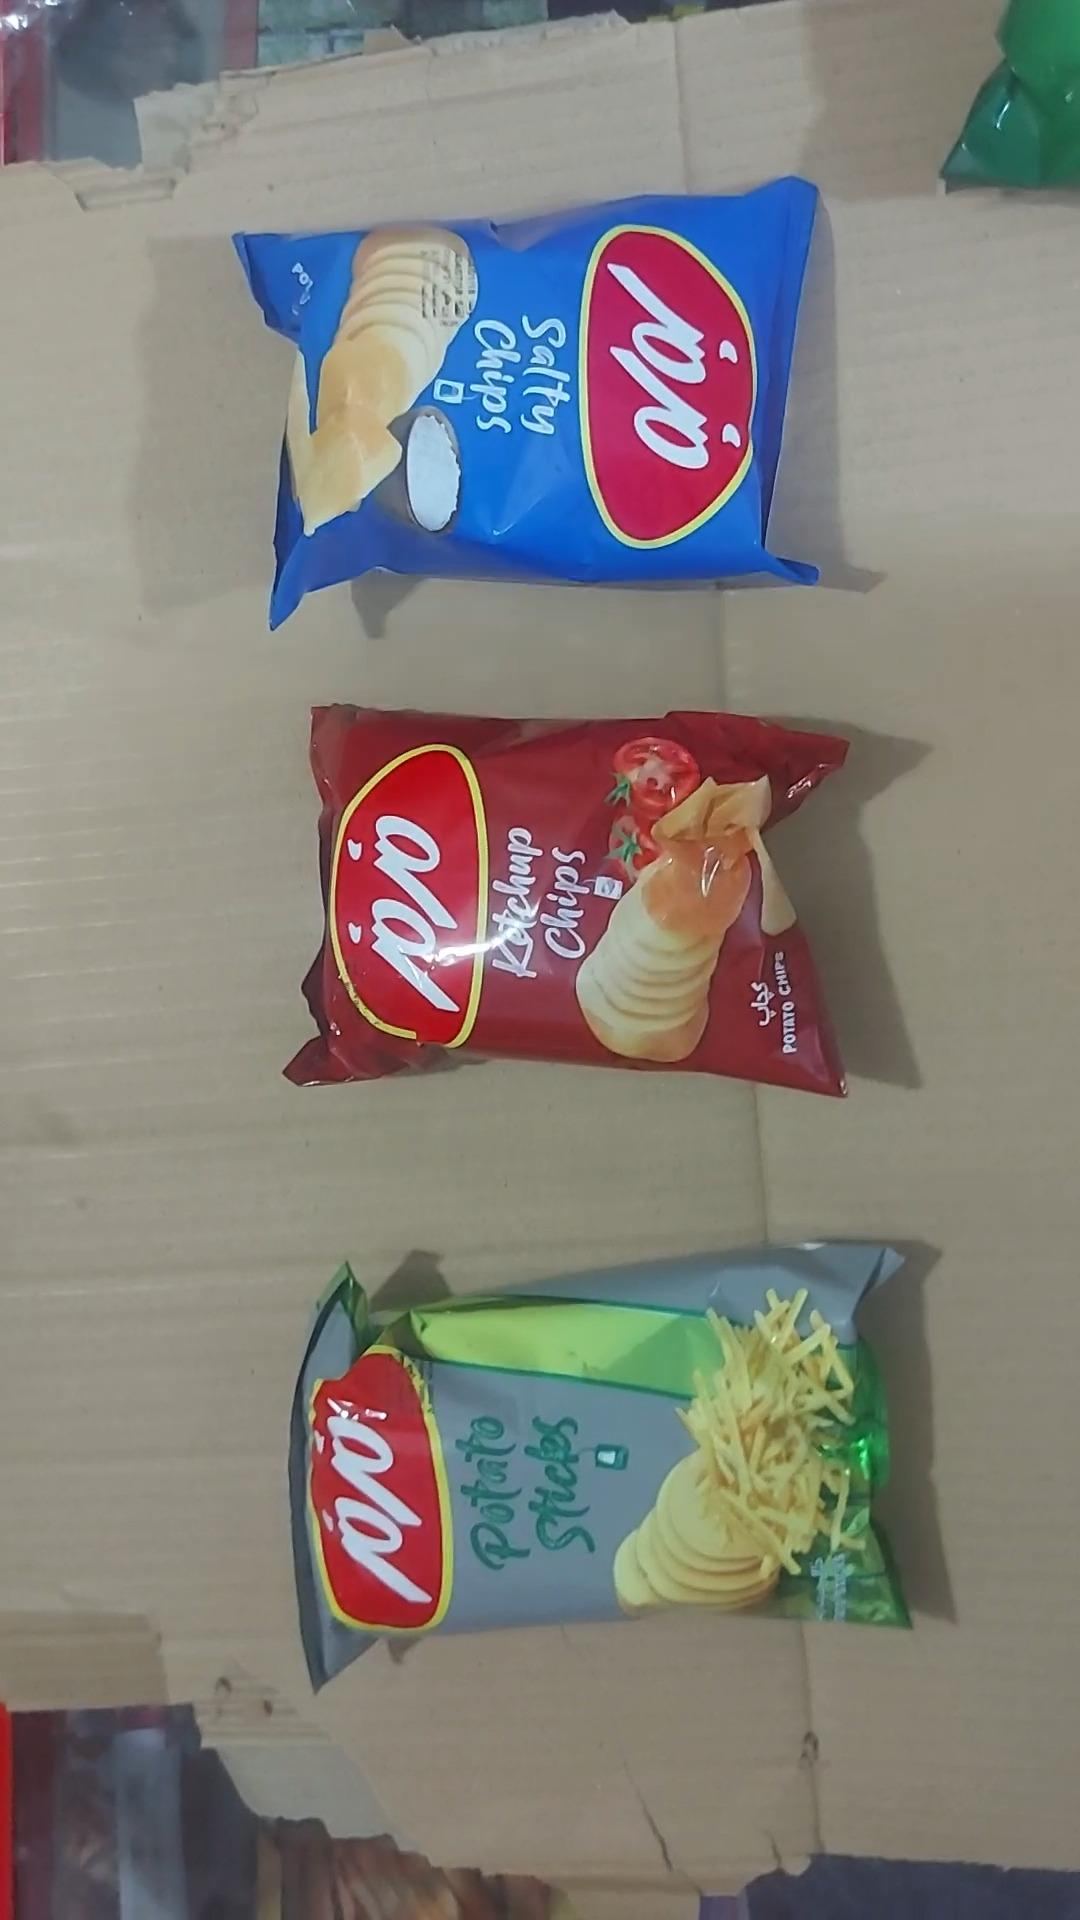Maz Maz ketchup chips: (284, 705, 852, 1098)
Maz Maz potato sticks: (287, 1242, 916, 1696)
Maz Maz salty chips: (231, 177, 822, 632)
